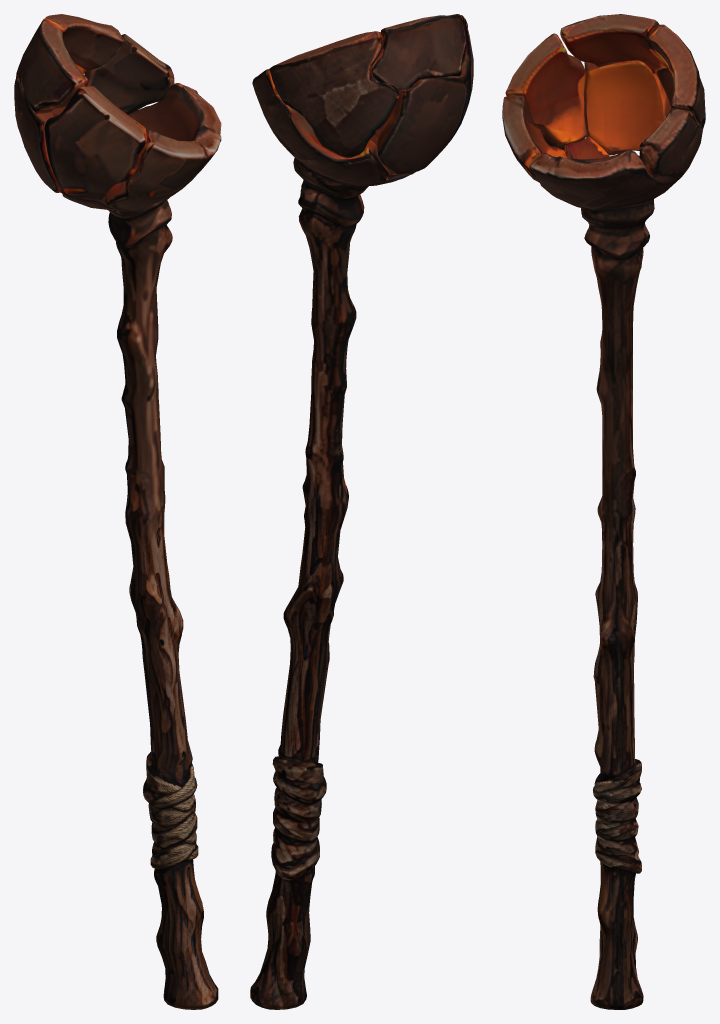
The model's file is D02_kiln_shaman_ladle.glb.
The picture shows the model from 3 angles, left to right: view 1: azimuth 30°, elevation 25°; view 2: azimuth 150°, elevation 25°; view 3: azimuth 270°, elevation 25°; orthographic projection. The views are drawn at different scales.
Parts seen in each view (by area): view 1: tripo_63ef8363_9a95_4c5d_8ddb_779c54b860ad; view 2: tripo_63ef8363_9a95_4c5d_8ddb_779c54b860ad; view 3: tripo_63ef8363_9a95_4c5d_8ddb_779c54b860ad.
Part boxes in pixels (bbox=[...]): tripo_63ef8363_9a95_4c5d_8ddb_779c54b860ad: bbox=[14, 14, 221, 1009]; tripo_63ef8363_9a95_4c5d_8ddb_779c54b860ad: bbox=[250, 14, 473, 1009]; tripo_63ef8363_9a95_4c5d_8ddb_779c54b860ad: bbox=[502, 14, 705, 1009].
Bounding box in the file's own units: 0.2026 × 0.9995 × 0.1997.
Materials: 1 (1 with a texture image).
